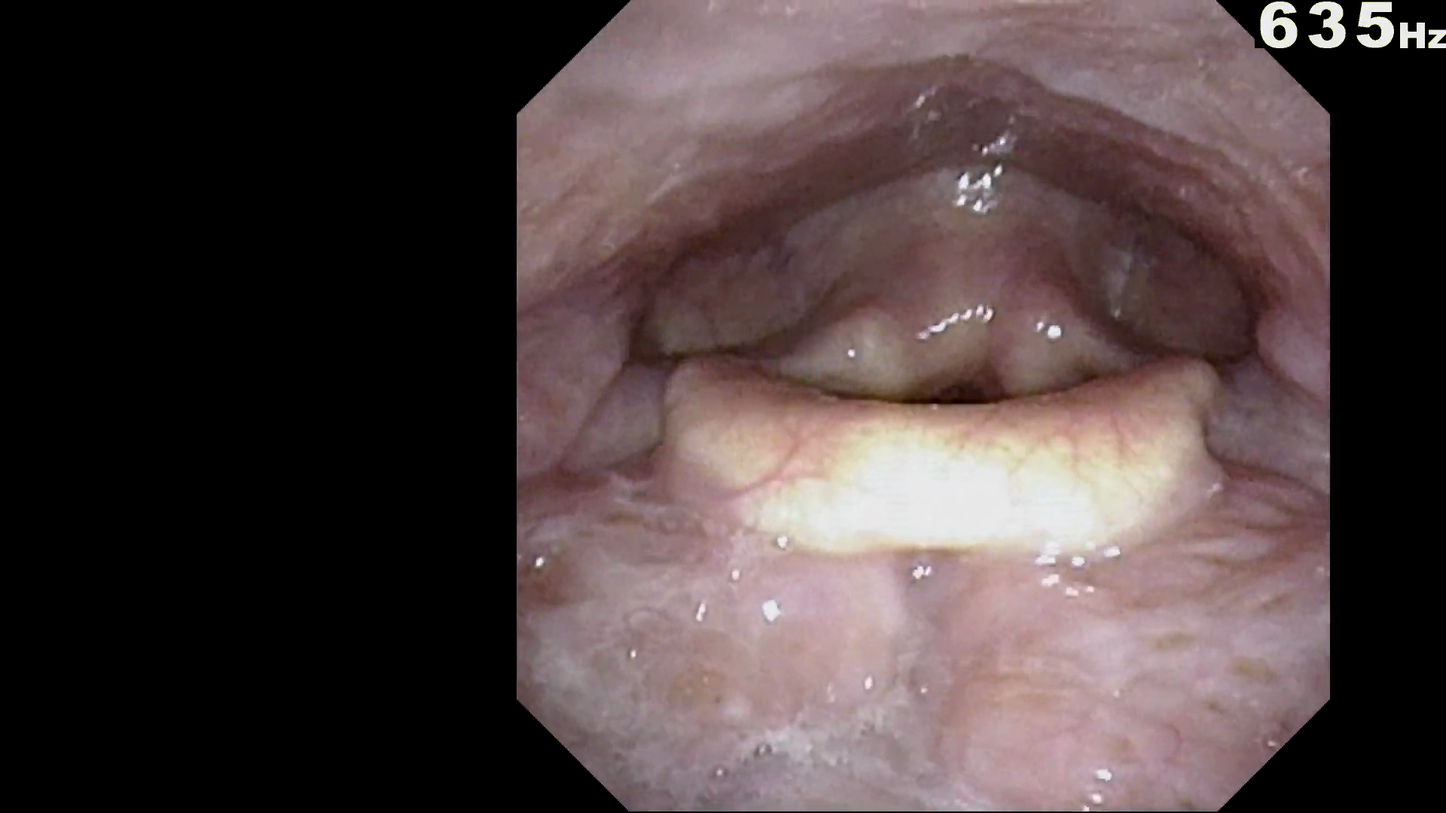epiglottis: (673, 375, 1256, 604)
